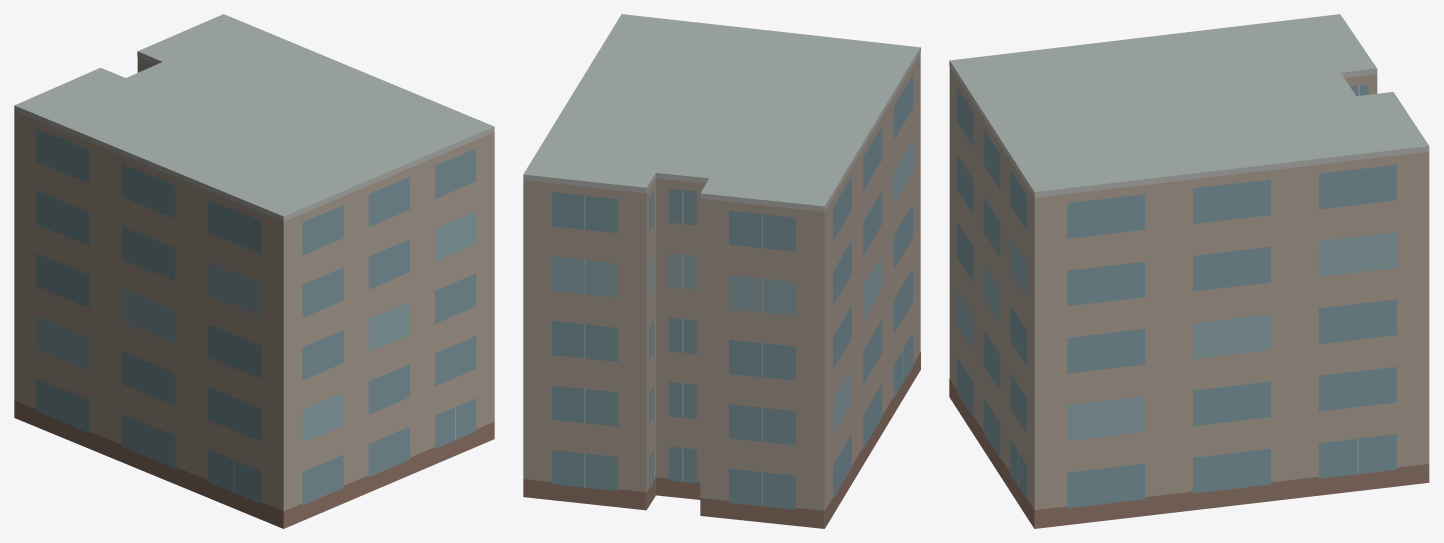
Rendered from survey-upis-32909465.glb.
The picture shows the model from 3 angles, left to right: view 1: azimuth 30°, elevation 25°; view 2: azimuth 150°, elevation 25°; view 3: azimuth 270°, elevation 25°; orthographic projection. The views are drawn at different scales.
Parts seen in each view (by area): view 1: survey-upis-32909465.tmp; view 2: survey-upis-32909465.tmp; view 3: survey-upis-32909465.tmp.
Boxes of the visible parts, <box> form: survey-upis-32909465.tmp: <box>14,14,494,528</box>; survey-upis-32909465.tmp: <box>523,14,920,528</box>; survey-upis-32909465.tmp: <box>949,14,1429,528</box>.
Bounding box in the file's own units: 16.34 × 14.4 × 18.6.
